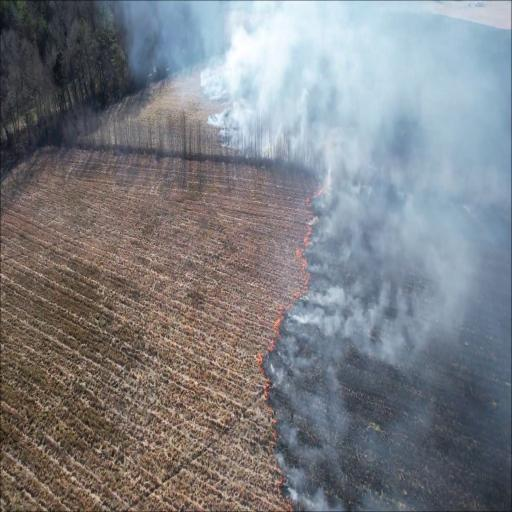smoke: (206, 4, 512, 151), (288, 275, 364, 334)
